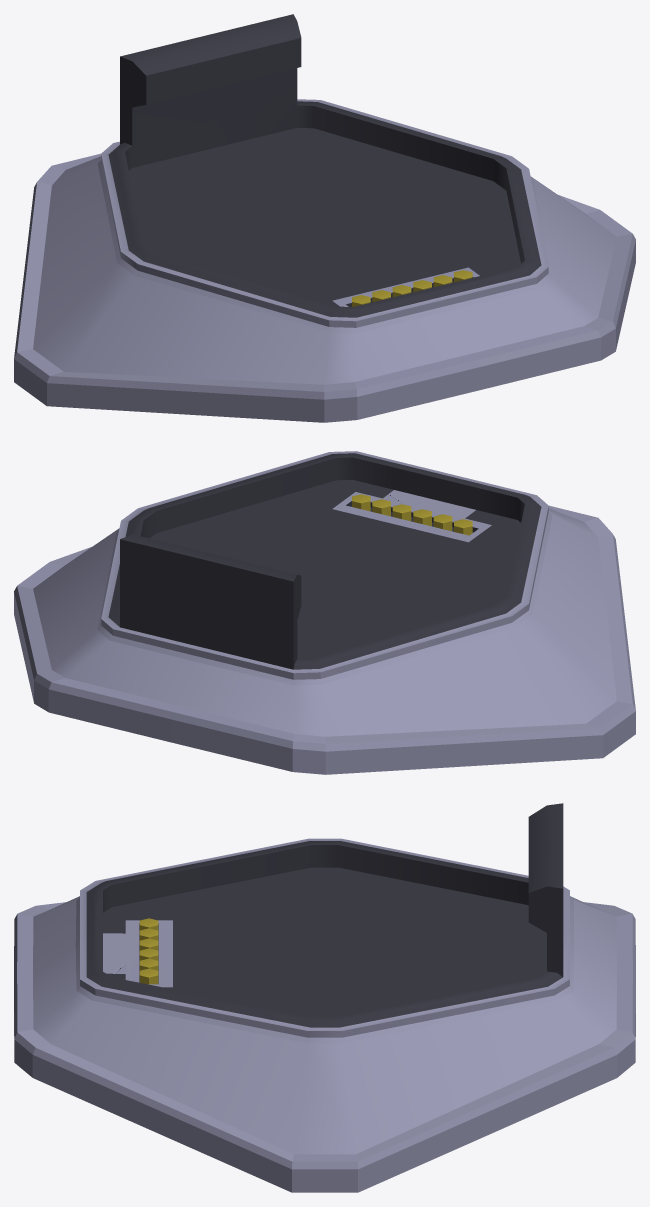
The model's file is GloveConnector.fbx.
3 views of the same model, one above another, from view 1: azimuth 30°, elevation 25°; view 2: azimuth 150°, elevation 25°; view 3: azimuth 270°, elevation 25° (orthographic).
Visible parts, largest first — view 1: Glove2_Connector; view 2: Glove2_Connector; view 3: Glove2_Connector.
Boxes of the visible parts, left/top/right/bottom form: Glove2_Connector: left=14, top=14, right=635, bottom=422; Glove2_Connector: left=14, top=451, right=635, bottom=774; Glove2_Connector: left=14, top=803, right=635, bottom=1192.
Size of the model in its own units: 154 by 50.16 by 140.
